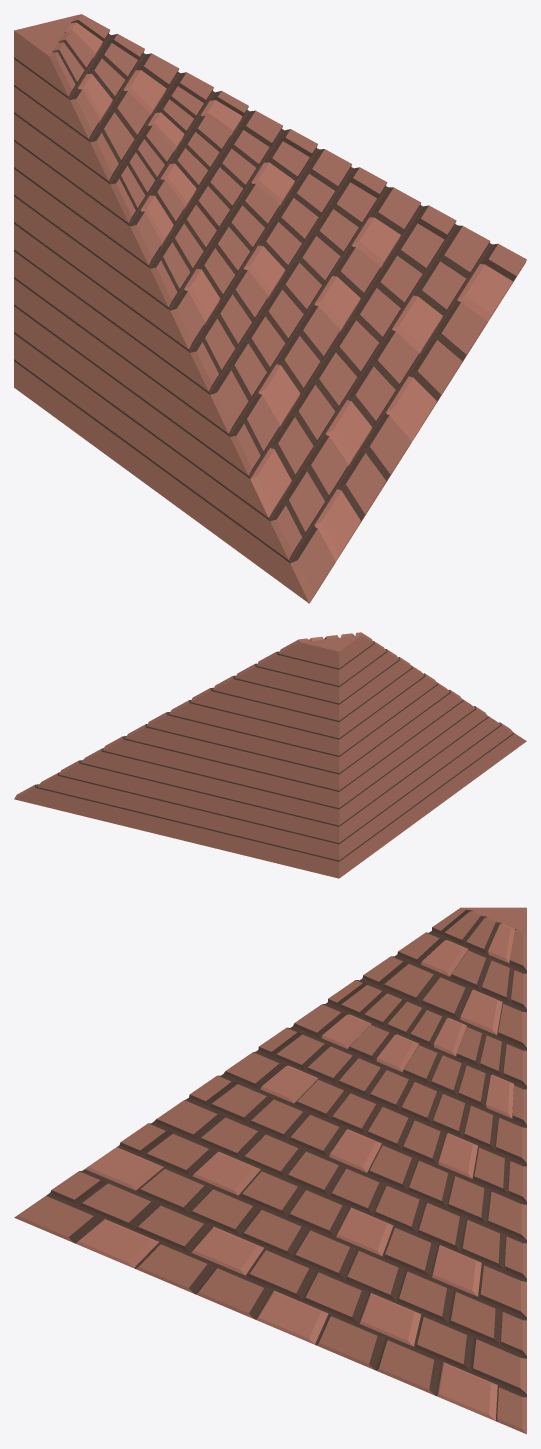
The model's file is cornerColliderRamp.glb.
The picture shows the model from 3 angles, top to bottom: view 1: azimuth 30°, elevation 25°; view 2: azimuth 150°, elevation 25°; view 3: azimuth 270°, elevation 25°; orthographic projection. The views are drawn at different scales.
Visible parts, largest first — view 1: cornerColliderRamp.001; view 2: cornerColliderRamp.001; view 3: cornerColliderRamp.001.
Boxes of the visible parts, <box> form: cornerColliderRamp.001: <box>14,14,526,603</box>; cornerColliderRamp.001: <box>14,632,526,878</box>; cornerColliderRamp.001: <box>14,907,526,1434</box>.
Bounding box in the file's own units: 6 × 4.02 × 6.
